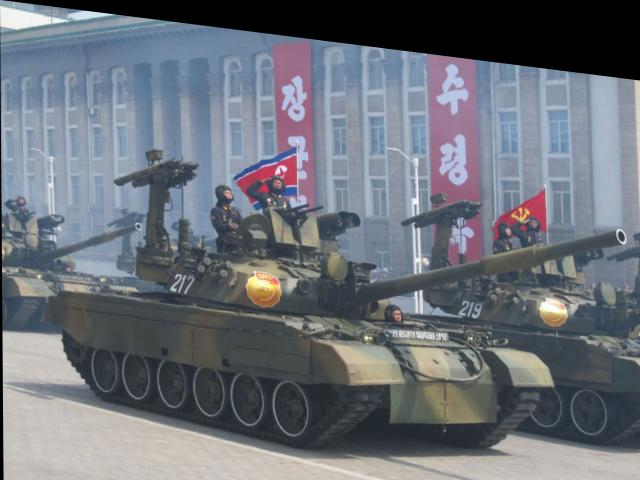other: (515, 182, 581, 235), (488, 192, 532, 251), (203, 165, 241, 233), (255, 155, 295, 215), (3, 183, 31, 226)
tank: (90, 208, 529, 459), (419, 170, 636, 457), (1, 180, 152, 345), (321, 186, 467, 308)
